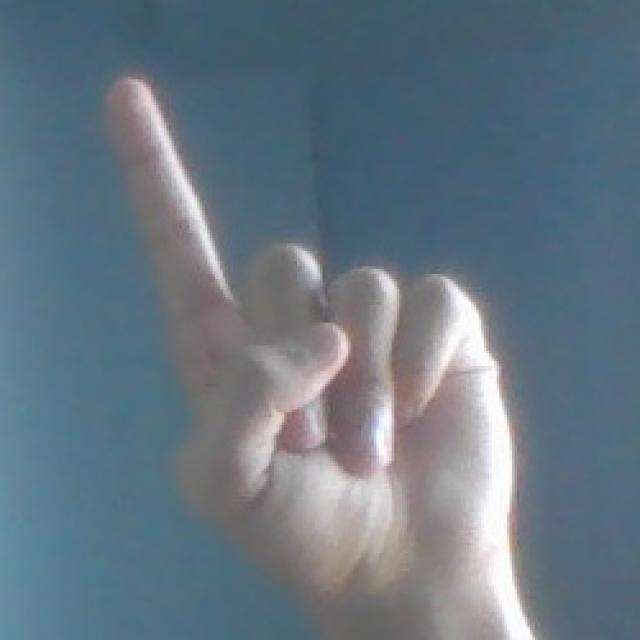Numeric-1: (102, 73, 510, 617)
